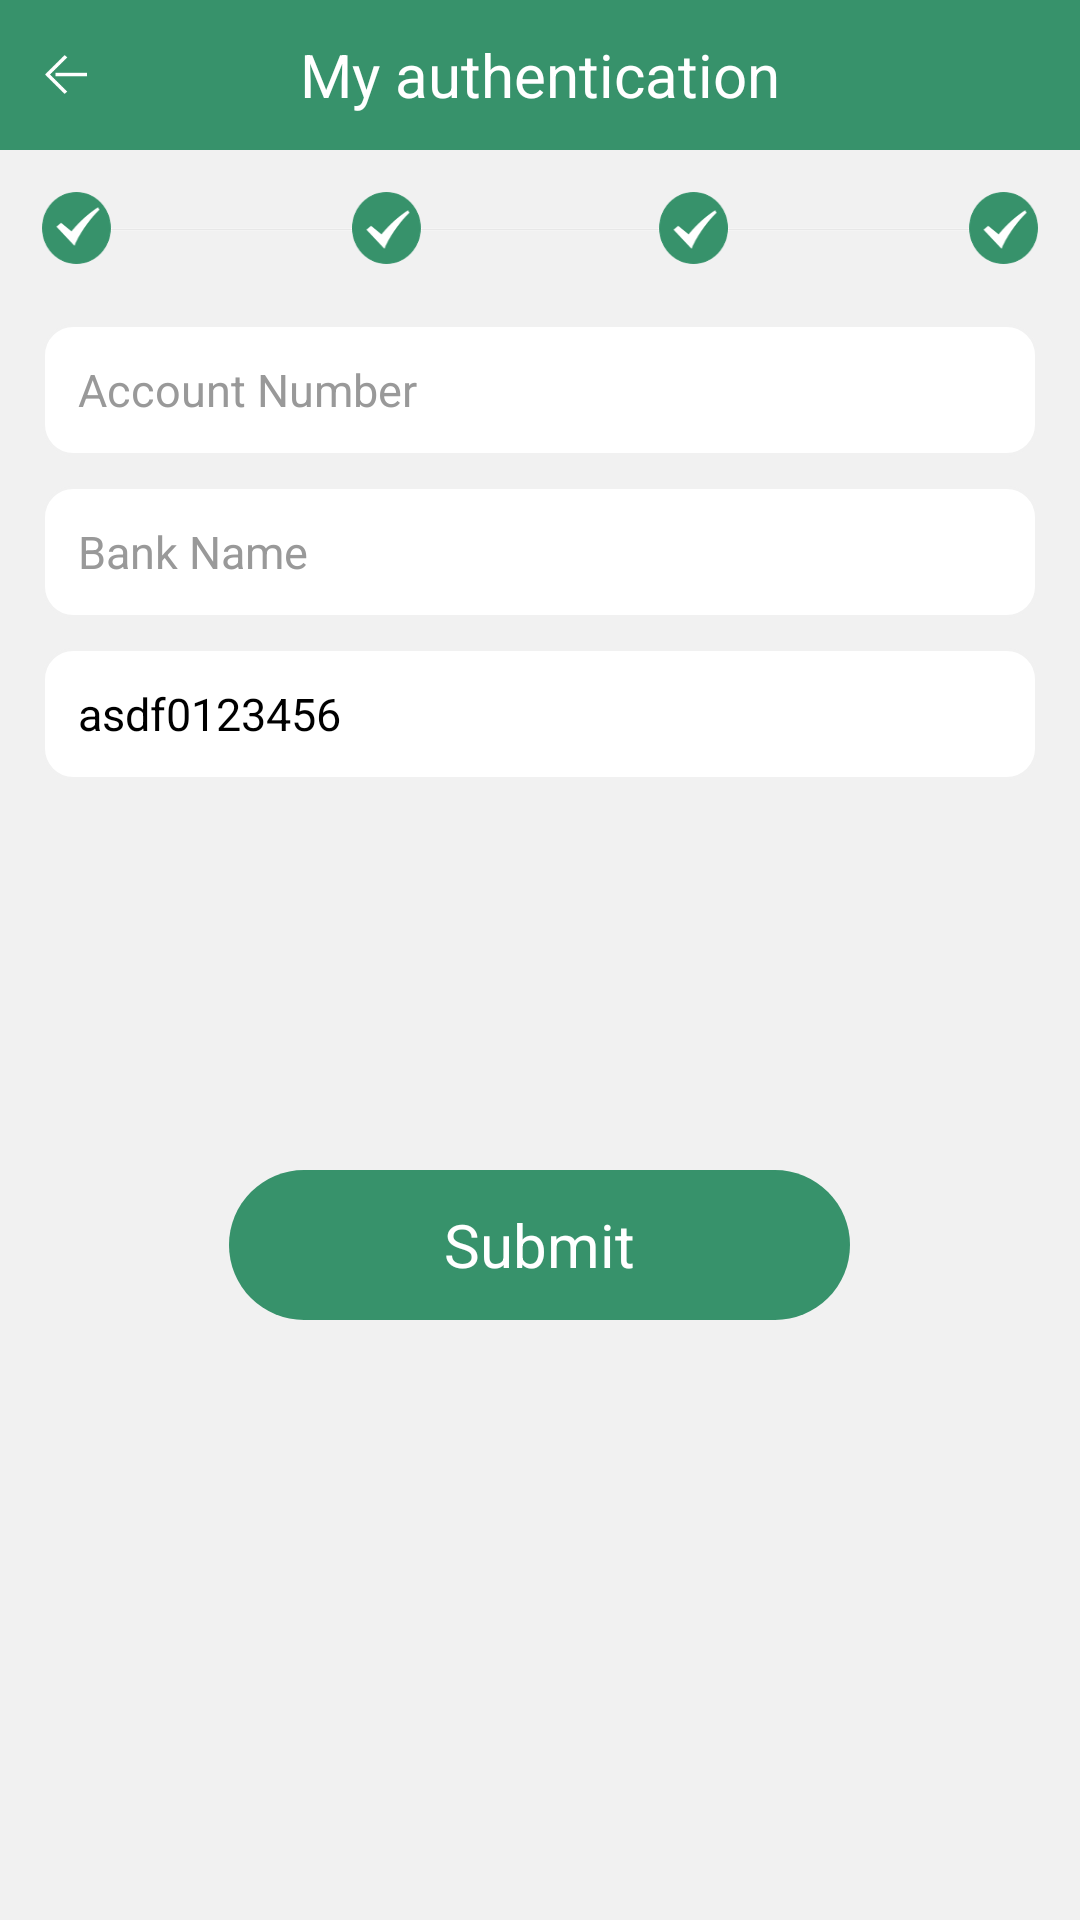

Where to tap for icons on this 1080*1920 app screen, as point (x, y):
back: point (66, 74)
